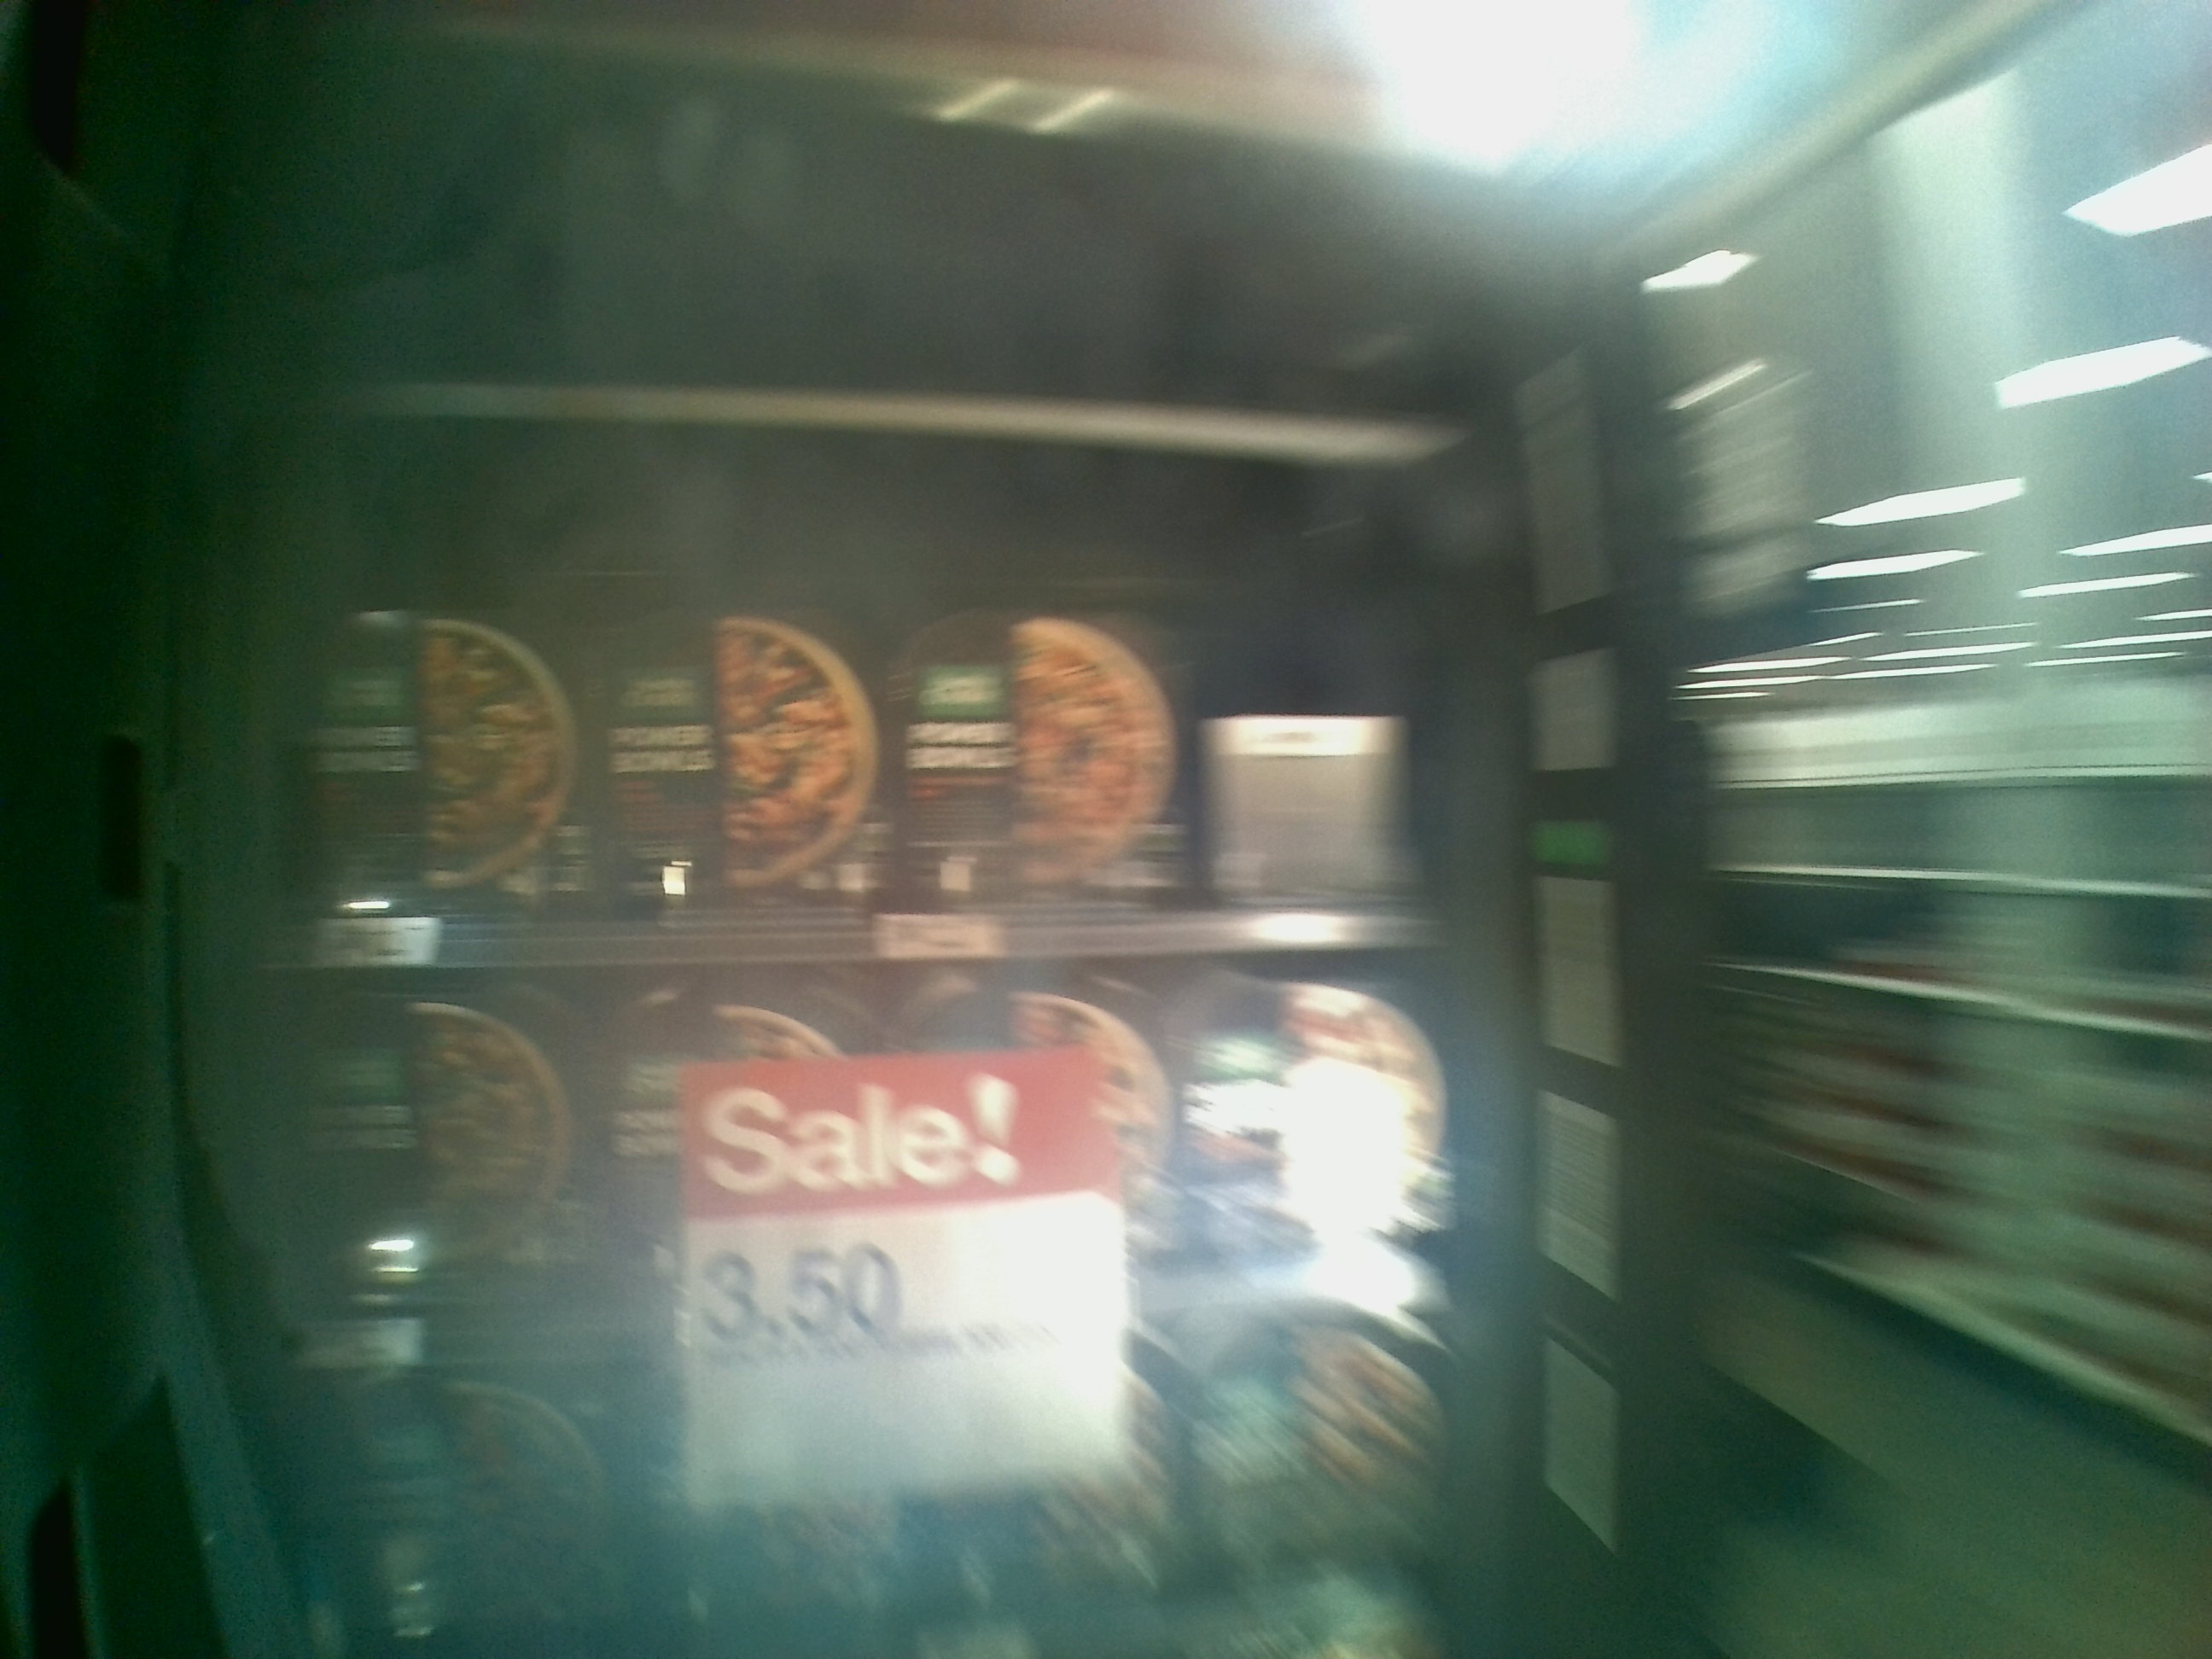shelf: (232, 390, 1446, 985)
